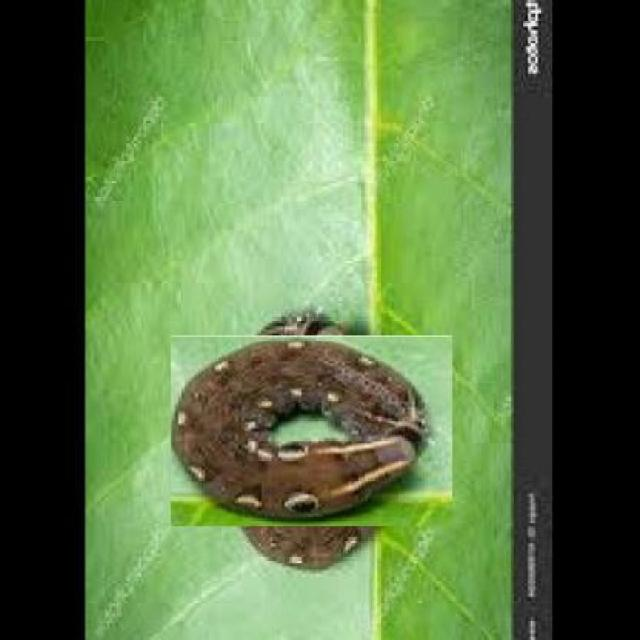Plaga: (192, 313, 430, 552)
